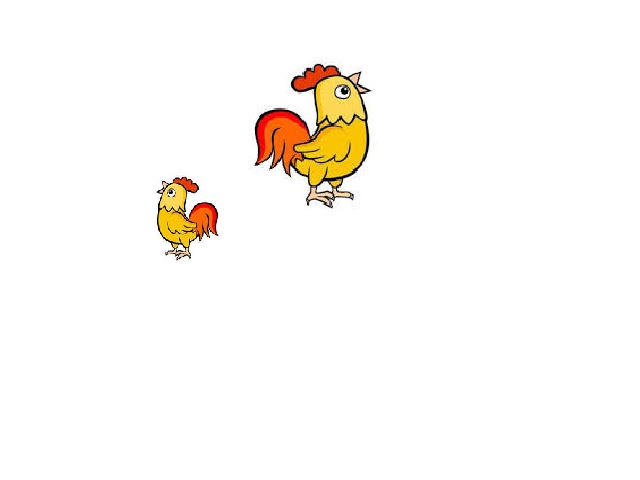crown: (290, 65, 341, 87), (174, 175, 201, 192)
eyes: (332, 82, 352, 99), (168, 188, 175, 196)
feet: (303, 191, 357, 209), (165, 246, 192, 262)
tail: (253, 107, 312, 181), (189, 204, 219, 239)
